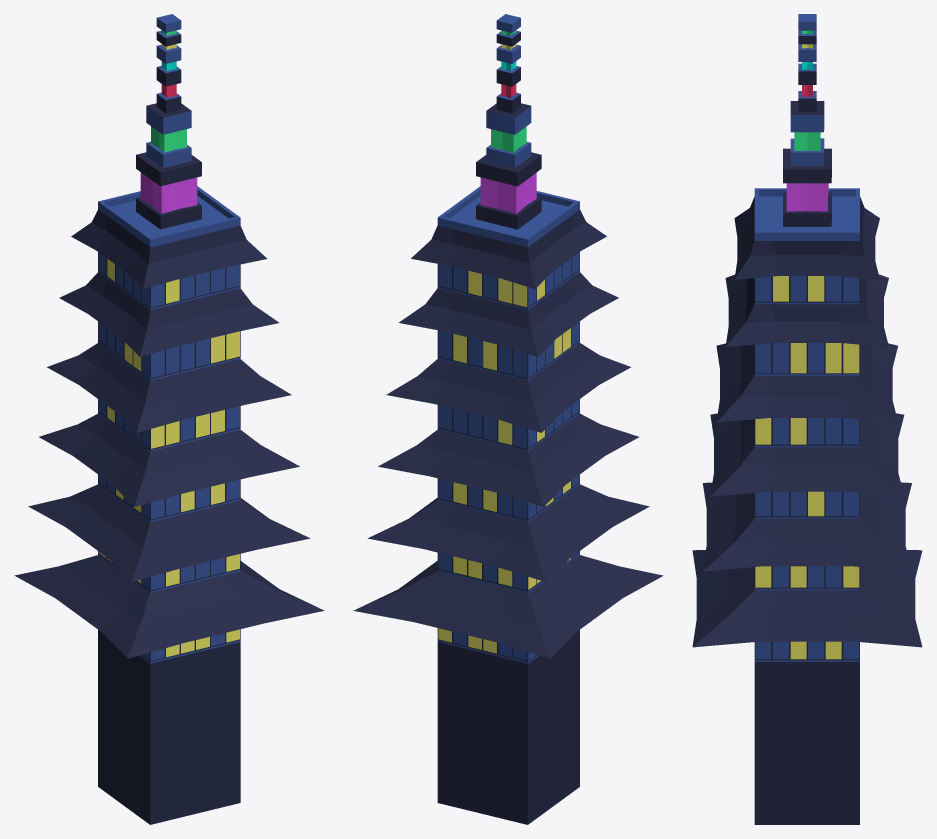
Rendered from building1.FBX.
3 views of the same model, side by side, from view 1: azimuth 30°, elevation 25°; view 2: azimuth 150°, elevation 25°; view 3: azimuth 270°, elevation 25° (orthographic).
Visible parts, largest first — view 1: Box001; view 2: Box001; view 3: Box001.
Part boxes in pixels (box(x1,y1,x2,y2)): Box001: box(14, 14, 324, 824); Box001: box(353, 14, 663, 824); Box001: box(692, 14, 922, 824).
Bounding box in the file's own units: 97.26 × 366 × 97.26.
